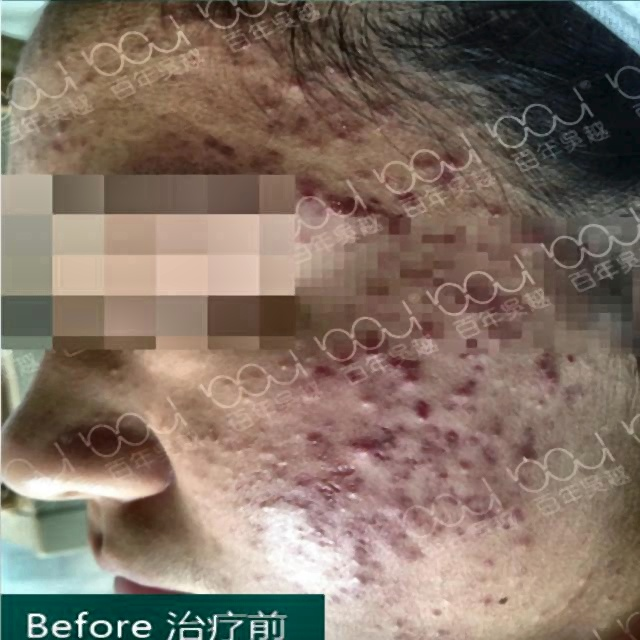papule: (407, 395, 445, 431), (192, 128, 233, 161), (398, 542, 441, 572), (536, 360, 574, 389), (335, 458, 367, 490), (291, 421, 327, 449), (253, 88, 281, 124), (291, 466, 329, 492), (389, 357, 425, 382), (316, 56, 348, 84), (392, 187, 434, 208), (436, 416, 470, 441), (328, 190, 357, 219), (282, 69, 308, 100), (444, 384, 482, 404), (499, 447, 533, 469), (349, 440, 383, 462), (418, 431, 447, 456), (342, 534, 376, 552), (430, 147, 464, 164), (432, 164, 457, 186), (298, 366, 332, 382), (371, 428, 402, 445), (290, 170, 312, 192)
